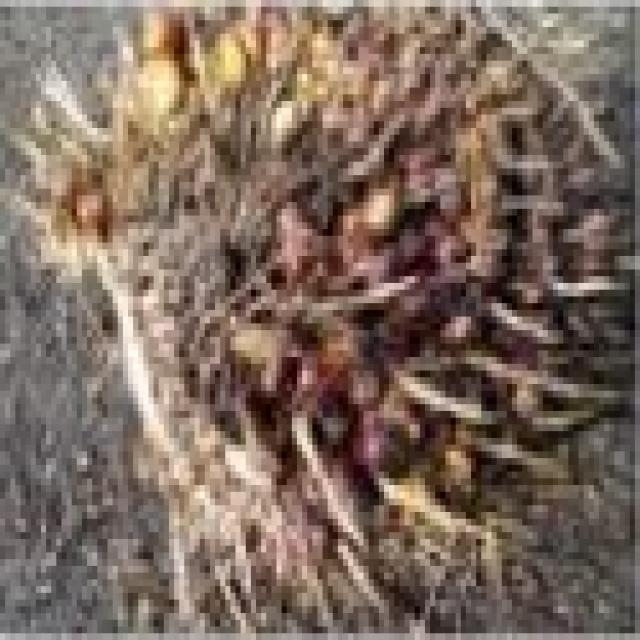FFB: (61, 10, 640, 566)
